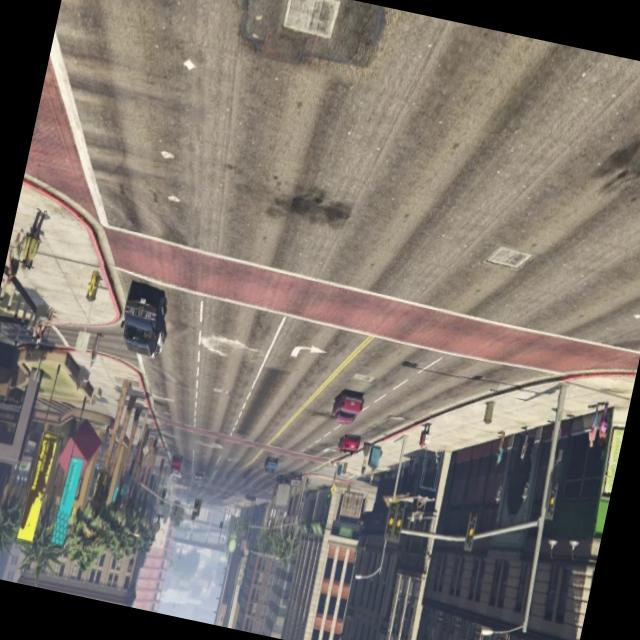Yellow-Signal: (376, 486, 416, 553), (540, 467, 568, 527), (456, 504, 486, 559)
